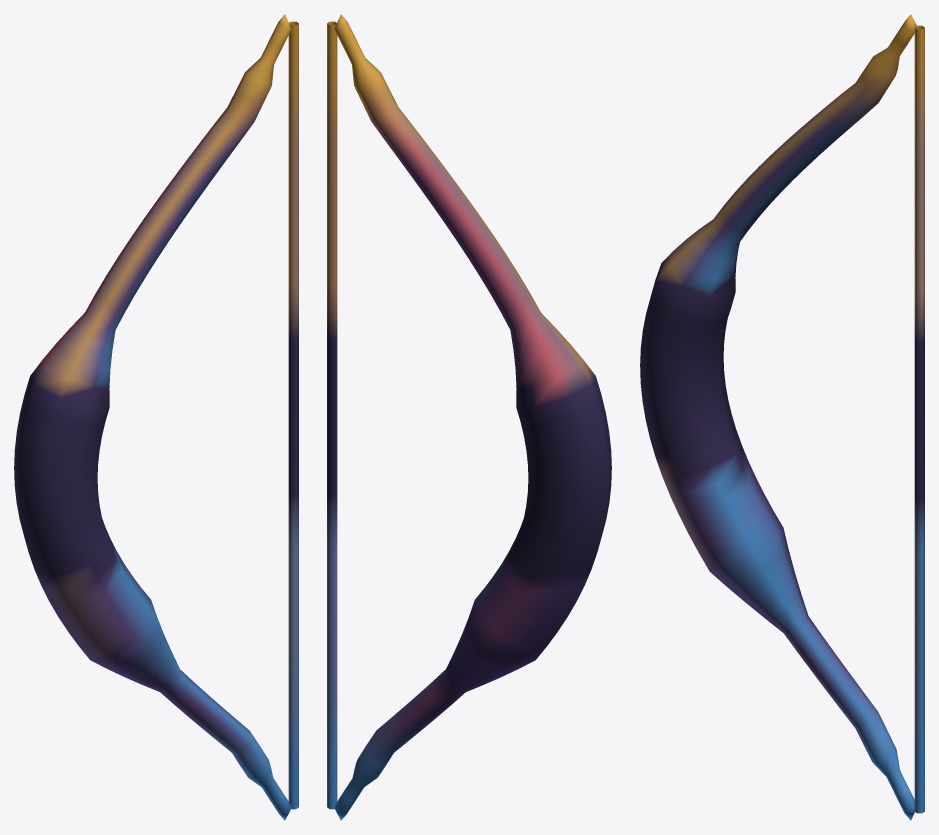
File: Fusion_Bow.glb
3 views of the same model, side by side, from view 1: azimuth 30°, elevation 25°; view 2: azimuth 150°, elevation 25°; view 3: azimuth 330°, elevation 25° (orthographic).
Parts seen in each view (by area): view 1: Fusion_Bow; view 2: Fusion_Bow; view 3: Fusion_Bow.
Part boxes in pixels (left/top/right/bottom): Fusion_Bow: left=14, top=14, right=298, bottom=820; Fusion_Bow: left=327, top=14, right=611, bottom=820; Fusion_Bow: left=640, top=14, right=924, bottom=820.
Size of the model in its own units: 0.6336 by 1.75 by 0.17.
